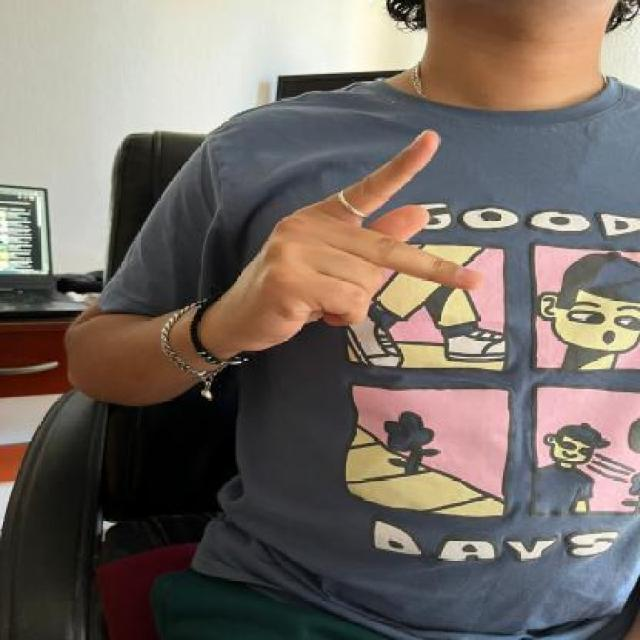K: (232, 125, 491, 350)
